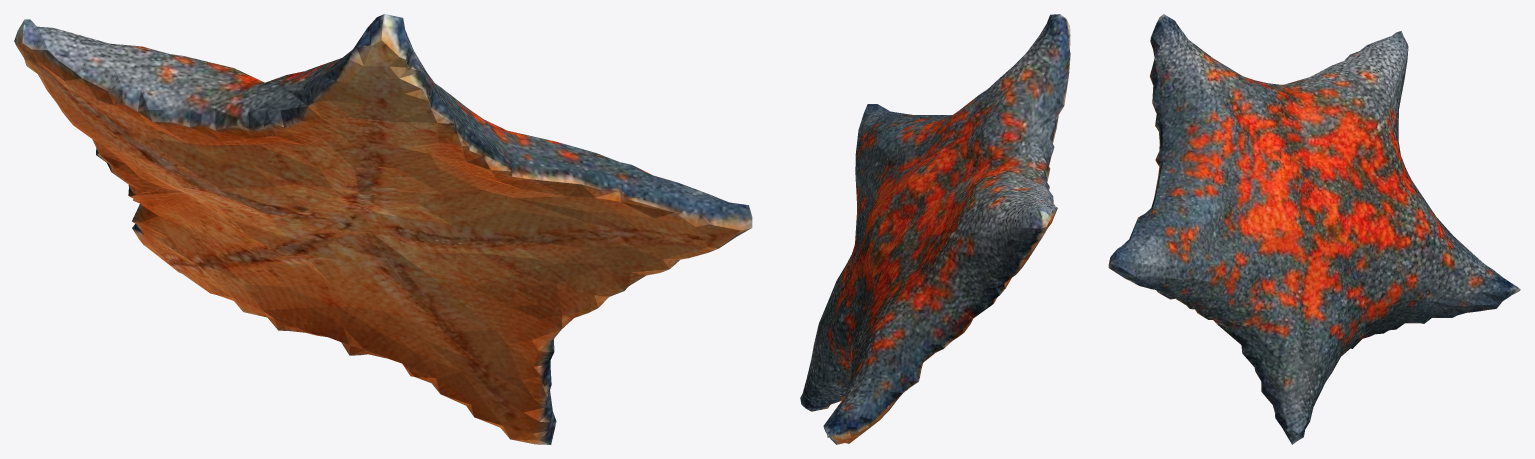
The model's file is starfish.glb.
The picture shows the model from 3 angles, left to right: view 1: azimuth 30°, elevation 25°; view 2: azimuth 150°, elevation 25°; view 3: azimuth 270°, elevation 25°; orthographic projection. The views are drawn at different scales.
Parts seen in each view (by area): view 1: starfish_near; view 2: starfish_near; view 3: starfish_near.
Part boxes in pixels (x1,y1,x2,y2): starfish_near: (14,14,752,444); starfish_near: (800,14,1070,444); starfish_near: (1108,14,1520,444).
Size of the model in its own units: 0.0784 by 0.0845 by 0.0922.
Materials: 1 (1 with a texture image).
